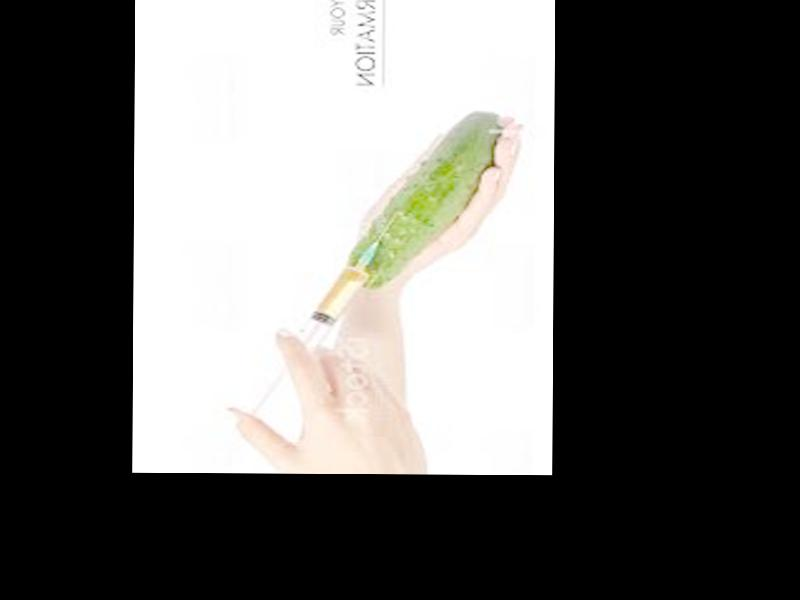Cucumber: (343, 112, 499, 288)
